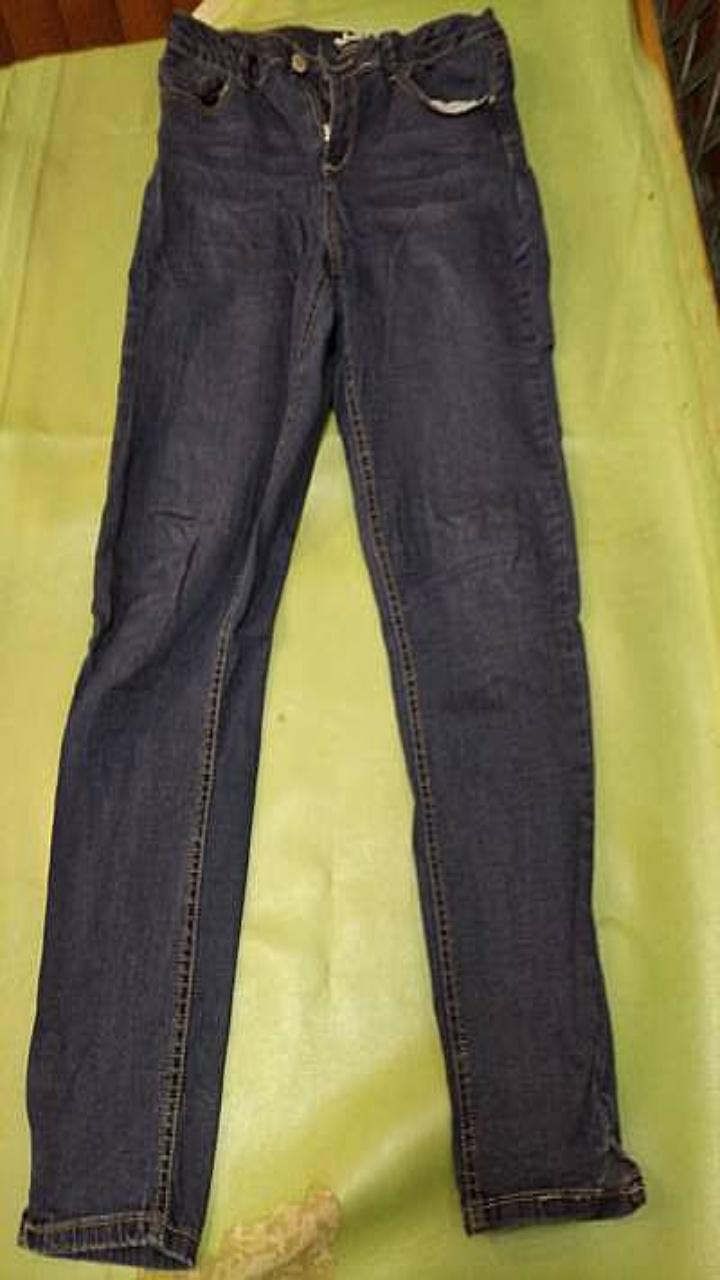Jeans: (18, 8, 645, 1269)
